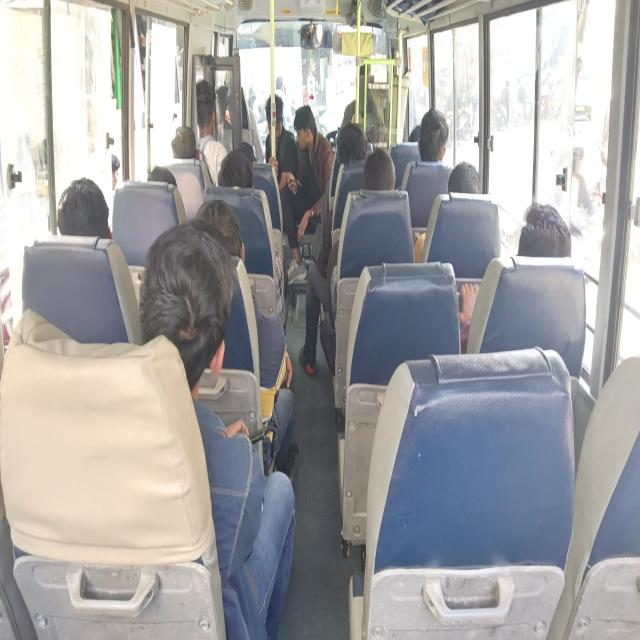person: (148, 235, 221, 355), (512, 201, 567, 275), (54, 182, 110, 244), (196, 197, 247, 260), (147, 163, 196, 211), (216, 154, 260, 204), (262, 94, 289, 151), (417, 118, 450, 164), (447, 159, 482, 202), (191, 79, 218, 130), (172, 130, 204, 173), (366, 150, 394, 194), (339, 129, 367, 172), (289, 108, 314, 154), (232, 141, 260, 166), (406, 126, 421, 146)
